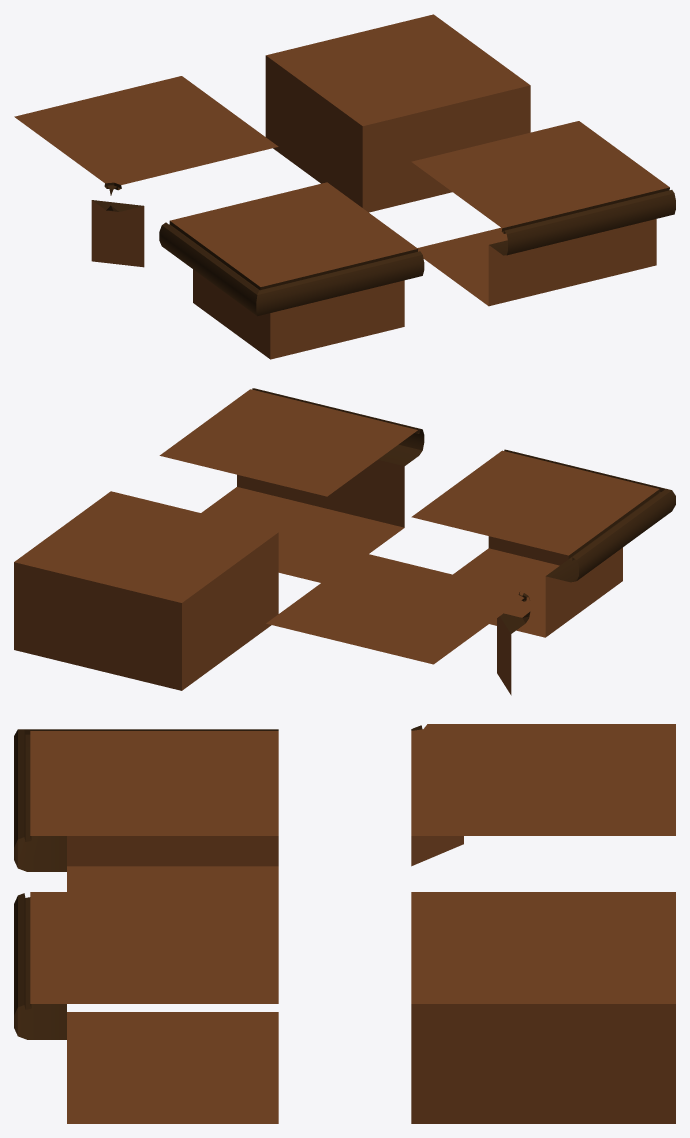
Rendered from TilemapMadera.fbx.
3 views of the same model, one above another, from view 1: azimuth 30°, elevation 25°; view 2: azimuth 150°, elevation 25°; view 3: azimuth 270°, elevation 25° (orthographic). The views are drawn at different scales.
Parts seen in each view (by area): view 1: CentroMesa, BordeMesa, EsquinaMesa, InteriorMesa; view 2: CentroMesa, BordeMesa, EsquinaMesa, InteriorMesa; view 3: CentroMesa, BordeMesa, EsquinaMesa, InteriorMesa.
Boxes of the visible parts, x1,y1,x2,y2 form: CentroMesa: [265, 14, 530, 212]; BordeMesa: [411, 121, 675, 306]; EsquinaMesa: [159, 182, 424, 359]; InteriorMesa: [14, 76, 278, 267]; CentroMesa: [14, 491, 278, 690]; BordeMesa: [159, 388, 424, 582]; EsquinaMesa: [411, 449, 675, 637]; InteriorMesa: [266, 552, 530, 695]; CentroMesa: [411, 892, 675, 1123]; BordeMesa: [14, 892, 278, 1123]; EsquinaMesa: [14, 729, 278, 891]; InteriorMesa: [411, 724, 675, 866].
Bounding box in the file's own units: 500 × 100 × 500.
